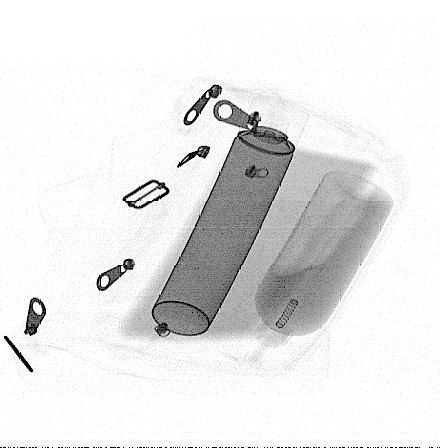Sprayer: (152, 95, 310, 336)
